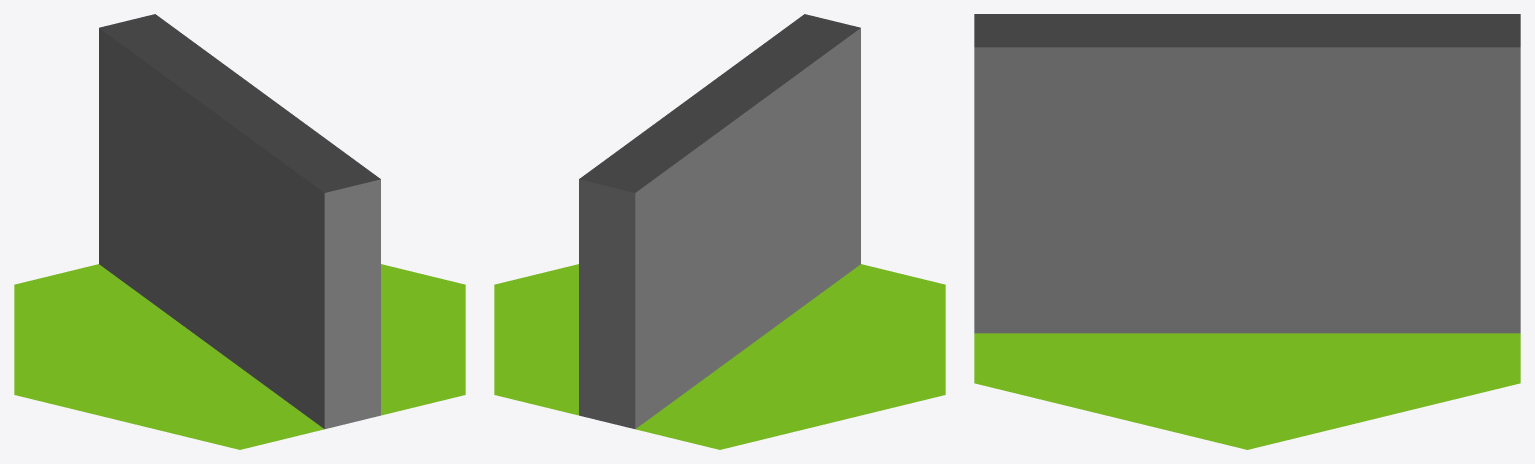
The model's file is WallAcross.fbx.
3 renders of one model, left to right at view 1: azimuth 30°, elevation 25°; view 2: azimuth 150°, elevation 25°; view 3: azimuth 270°, elevation 25°, orthographic. The views are drawn at different scales.
Parts seen in each view (by area): view 1: Model; view 2: Model; view 3: Model.
Part boxes in pixels (left/top/right/bottom): Model: left=14, top=14, right=465, bottom=449; Model: left=494, top=14, right=945, bottom=449; Model: left=974, top=14, right=1520, bottom=449.
Bounding box in the file's own units: 4 × 2 × 3.46.
